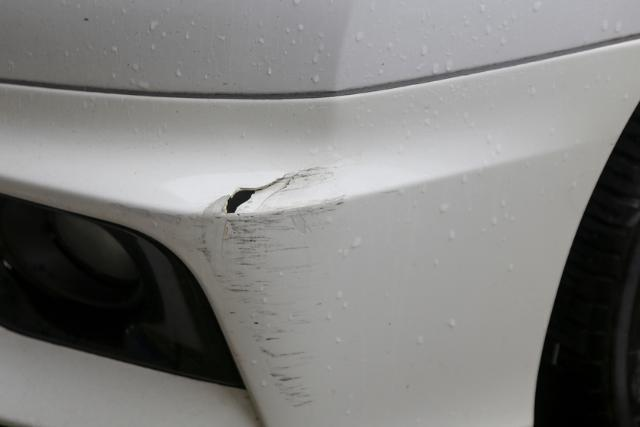Bumper: (157, 146, 379, 418)
